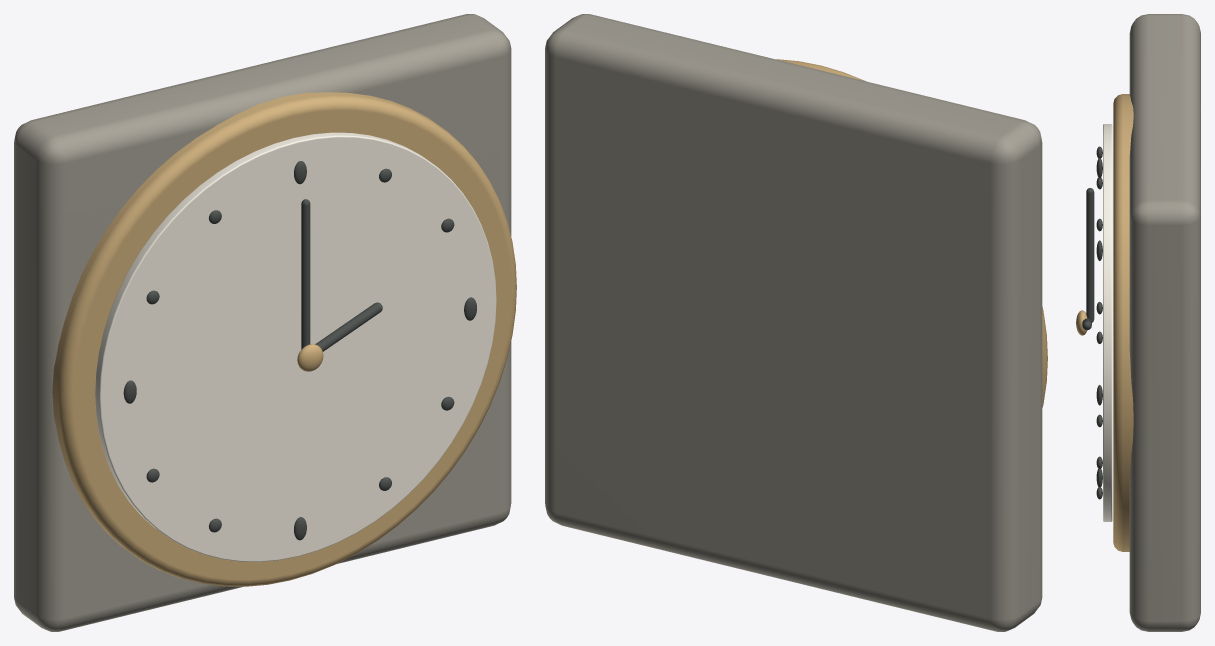
File: wall_clock.glb
3 views of the same model, side by side, from view 1: azimuth 30°, elevation 25°; view 2: azimuth 150°, elevation 25°; view 3: azimuth 270°, elevation 25° (orthographic). The views are drawn at different scales.
Parts seen in each view (by area): view 1: Clock dial, Backing, Clock case, Clock minute hand, Clock hour hand; view 2: Backing, Clock case; view 3: Backing, Clock case, Clock dial, Clock minute hand, Clock center.
Boxes of the visible parts, x1,y1,x2,y2 form: Clock dial: (95, 132, 496, 561); Backing: (14, 14, 511, 631); Clock case: (52, 92, 516, 586); Clock minute hand: (301, 199, 310, 349); Clock hour hand: (315, 302, 382, 351); Backing: (545, 14, 1042, 631); Clock case: (776, 59, 1047, 407); Backing: (1129, 14, 1200, 631); Clock case: (1113, 94, 1133, 551); Clock dial: (1103, 124, 1112, 521); Clock minute hand: (1086, 188, 1094, 322); Clock center: (1076, 310, 1087, 335).
Bounding box in the file's own units: 0.3 × 0.3 × 0.079.
